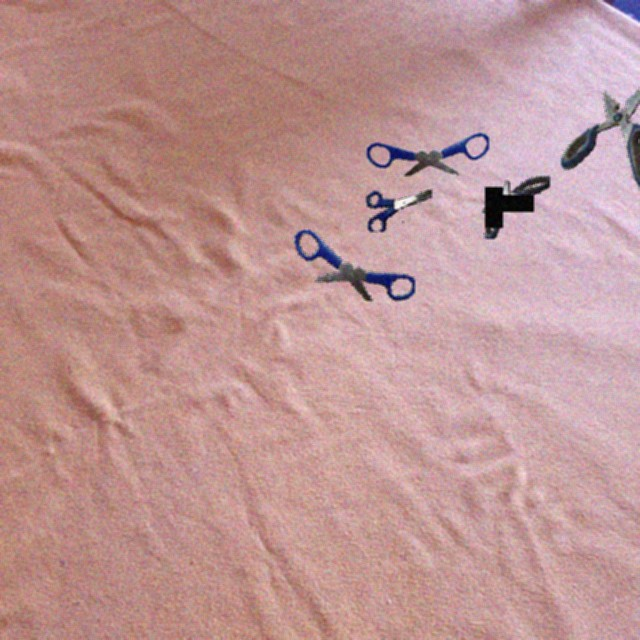scissors: (560, 77, 640, 201), (294, 229, 415, 301), (367, 133, 489, 176), (482, 176, 550, 239), (366, 189, 432, 232)
